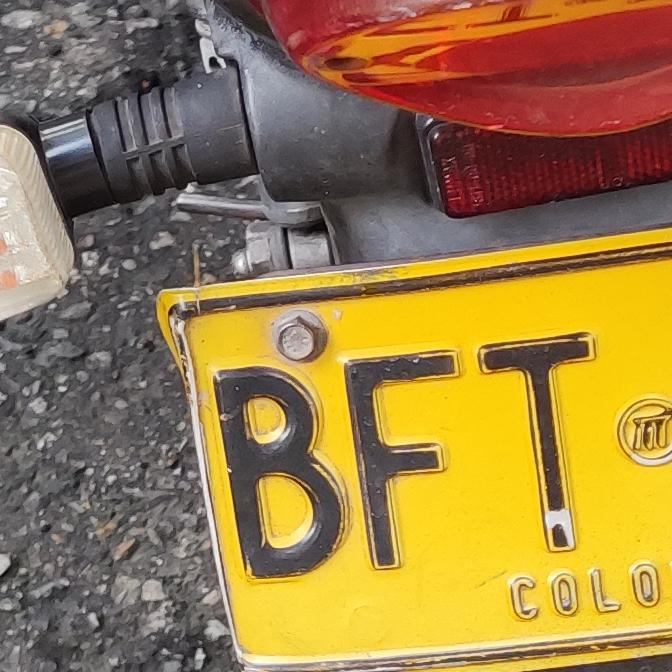plates: (180, 238, 672, 672)
